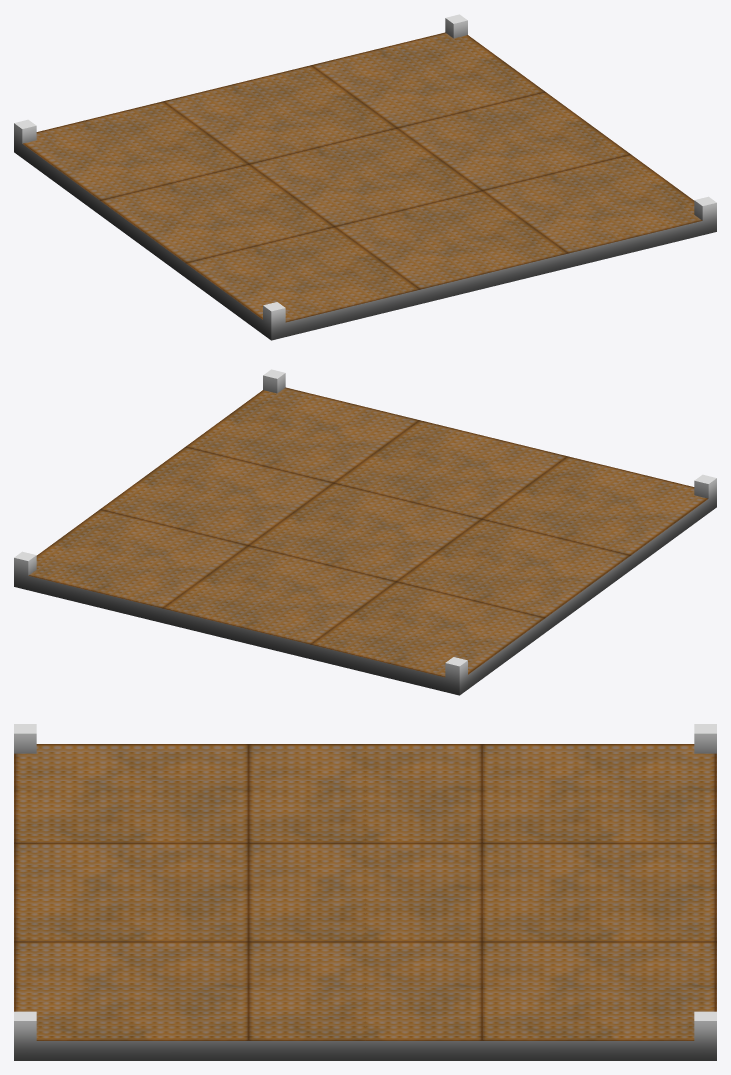
The model's file is Corridor_center (3).fbx.
3 views of the same model, one above another, from view 1: azimuth 30°, elevation 25°; view 2: azimuth 150°, elevation 25°; view 3: azimuth 270°, elevation 25° (orthographic). The views are drawn at different scales.
Visible parts, largest first — view 1: Cube.004; view 2: Cube.004; view 3: Cube.004.
Part boxes in pixels (x1,y1,x2,y2): Cube.004: [14, 14, 716, 340]; Cube.004: [14, 369, 716, 695]; Cube.004: [14, 724, 716, 1060].
Size of the model in its own units: 320 by 20 by 320.
